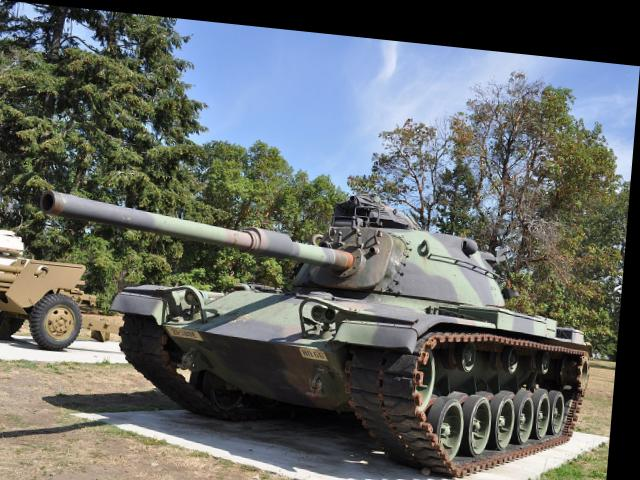tank: (112, 171, 609, 479)
